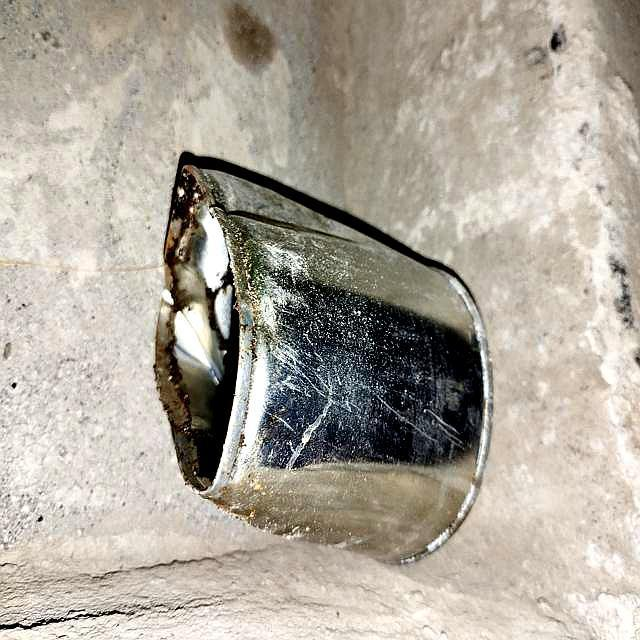Non-biodegradable: (152, 150, 496, 567)
